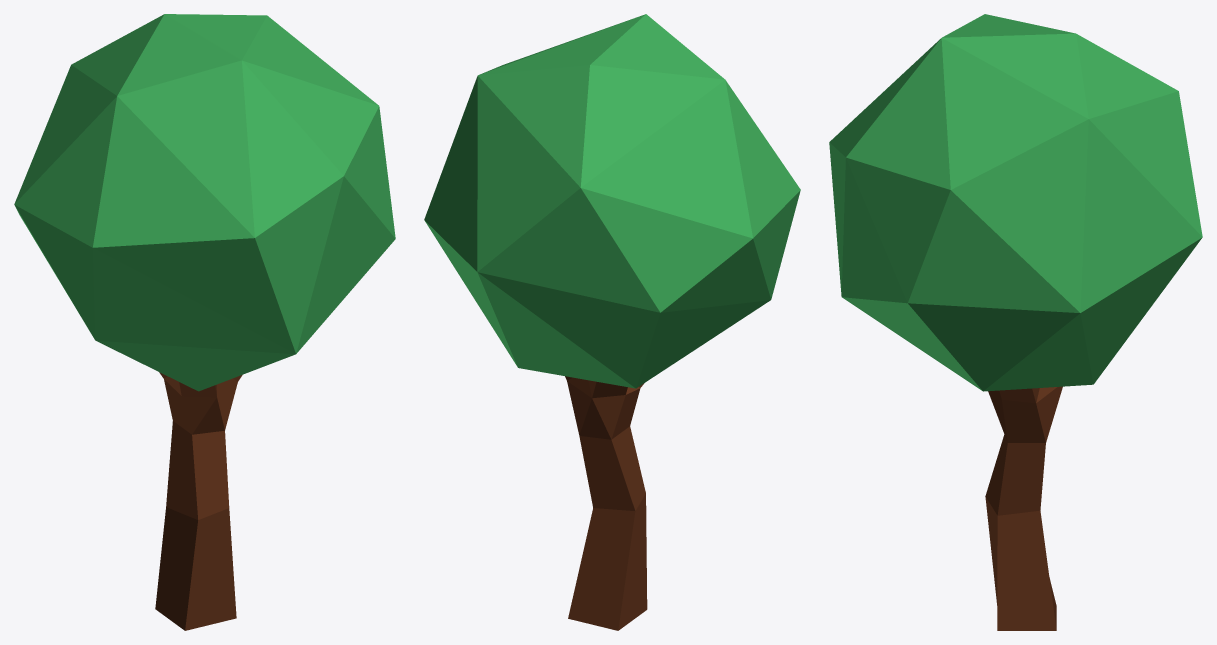
File: S_SmallTree.fbx
3 renders of one model, left to right at view 1: azimuth 30°, elevation 25°; view 2: azimuth 150°, elevation 25°; view 3: azimuth 270°, elevation 25°, orthographic. The views are drawn at different scales.
Parts seen in each view (by area): view 1: Tree_3; view 2: Tree_3; view 3: Tree_3.
Part boxes in pixels (x1,y1,x2,y2): Tree_3: [14, 14, 395, 630]; Tree_3: [424, 14, 800, 630]; Tree_3: [829, 14, 1202, 630].
Bounding box in the file's own units: 249 × 425 × 247.
